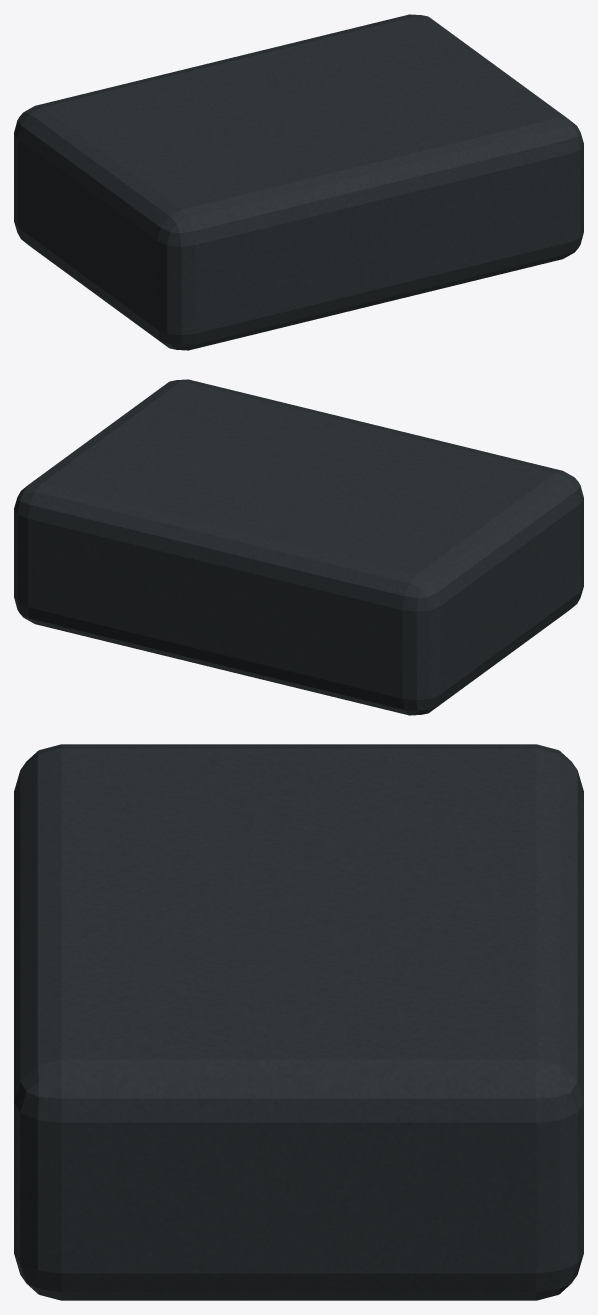
Rendered from wisp02.charging_handle.glb.
3 renders of one model, top to bottom at view 1: azimuth 30°, elevation 25°; view 2: azimuth 150°, elevation 25°; view 3: azimuth 270°, elevation 25°, orthographic. The views are drawn at different scales.
Visible parts, largest first — view 1: VIS_wisp02_charging_handle; view 2: VIS_wisp02_charging_handle; view 3: VIS_wisp02_charging_handle.
Part boxes in pixels (x1,y1,x2,y2): VIS_wisp02_charging_handle: [14, 14, 583, 350]; VIS_wisp02_charging_handle: [14, 379, 583, 715]; VIS_wisp02_charging_handle: [14, 744, 583, 1300].
Bounding box in the file's own units: 0.035 × 0.011 × 0.024.
1 material, 1 textured.
